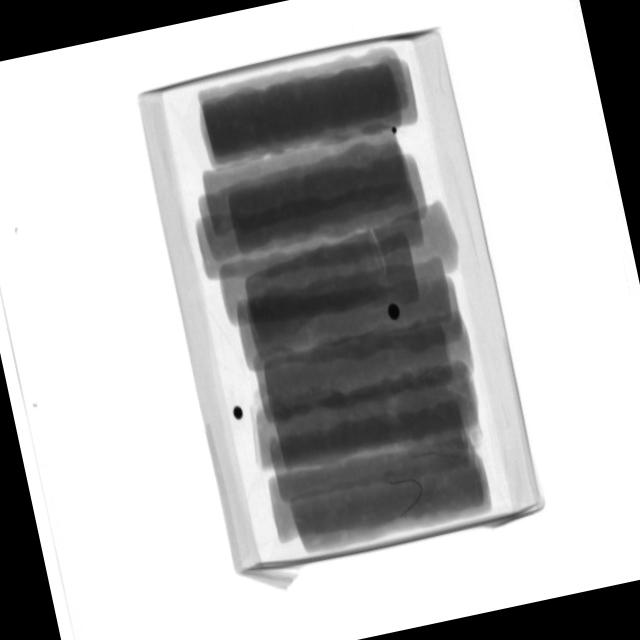ym: (390, 473, 428, 520), (387, 302, 402, 322), (233, 405, 245, 421), (390, 127, 399, 135)
